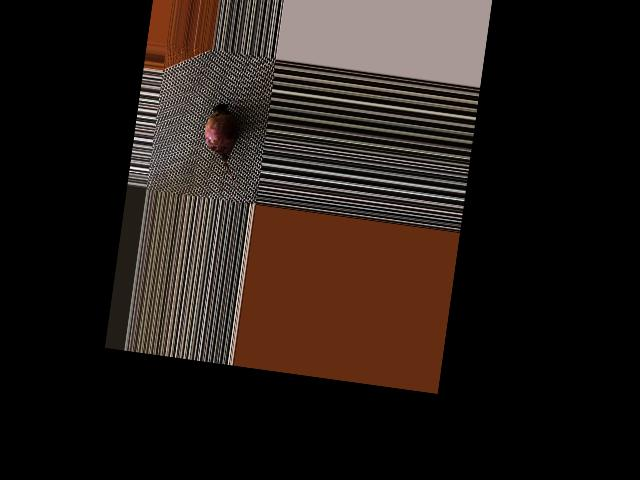beet: (198, 99, 256, 192)
